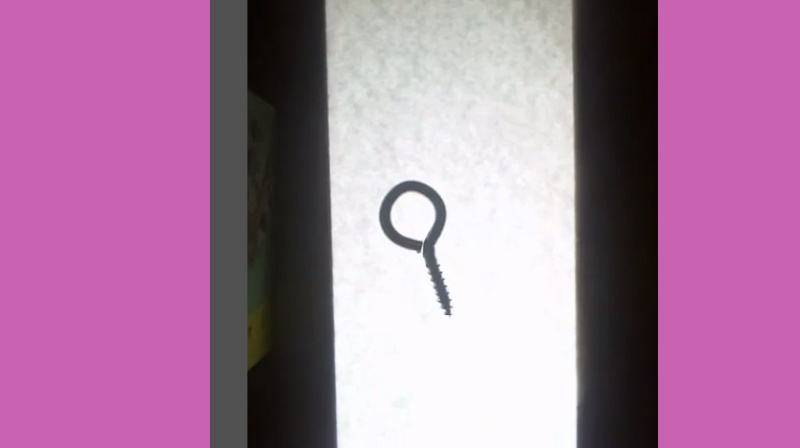O001: (376, 174, 456, 319)
